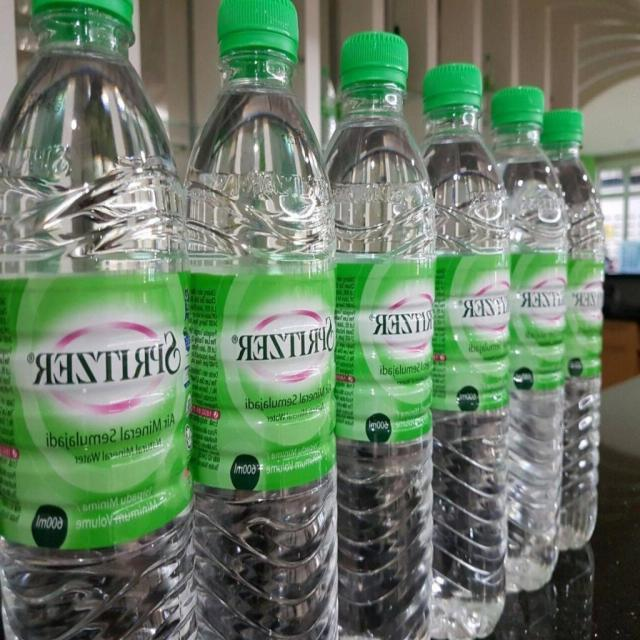plastic: (0, 0, 192, 640), (424, 63, 604, 640), (192, 0, 336, 640), (336, 30, 432, 640)
